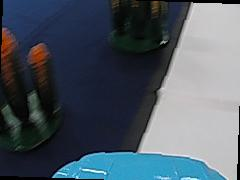corn: (1, 24, 61, 150), (109, 0, 179, 50)
